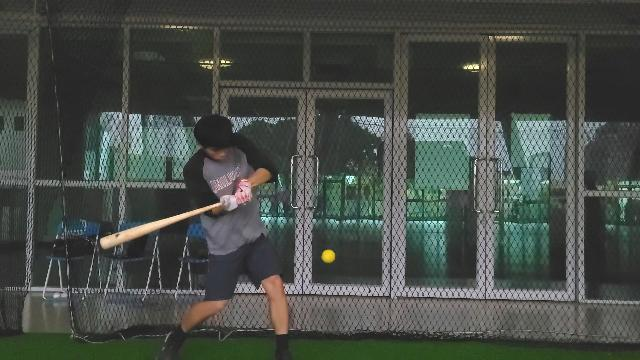baseball bat: (98, 201, 226, 251)
